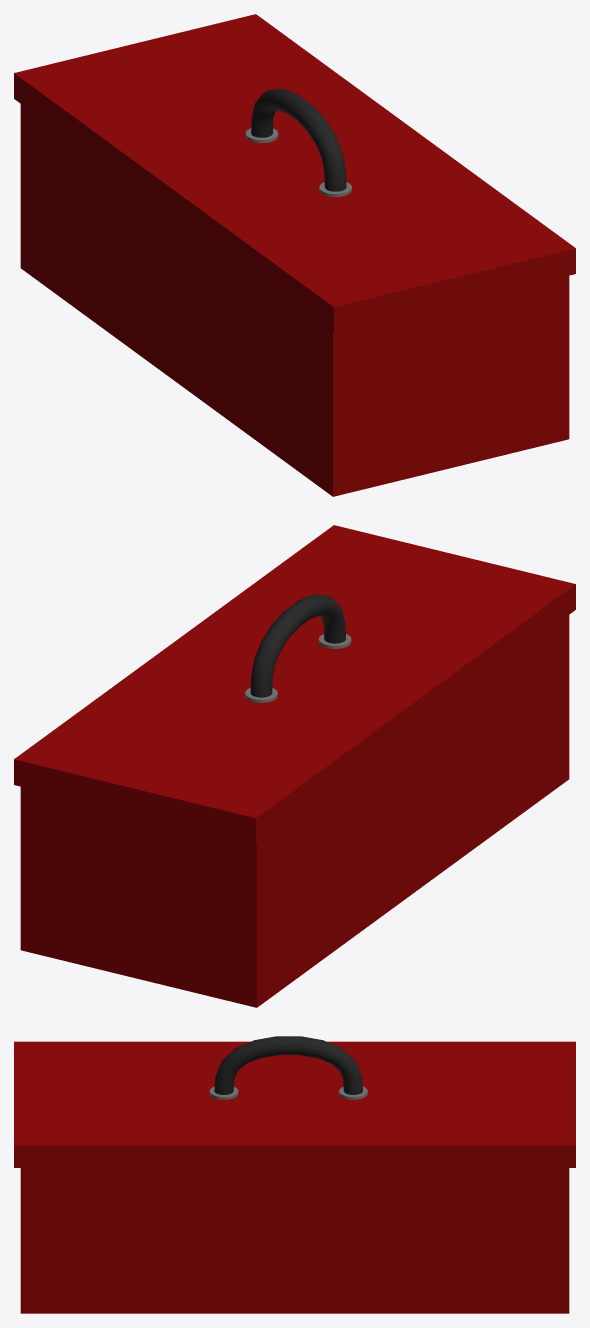
Rendered from Toolbox.fbx.
3 renders of one model, top to bottom at view 1: azimuth 30°, elevation 25°; view 2: azimuth 150°, elevation 25°; view 3: azimuth 270°, elevation 25°, orthographic. The views are drawn at different scales.
Visible parts, largest first — view 1: Toolbox2; view 2: Toolbox2; view 3: Toolbox2.
Boxes of the visible parts, left/top/right/bottom form: Toolbox2: left=14, top=14, right=575, bottom=496; Toolbox2: left=14, top=525, right=575, bottom=1007; Toolbox2: left=14, top=1036, right=575, bottom=1313.
Bounding box in the file's own units: 0.7415 × 0.7544 × 1.7.
